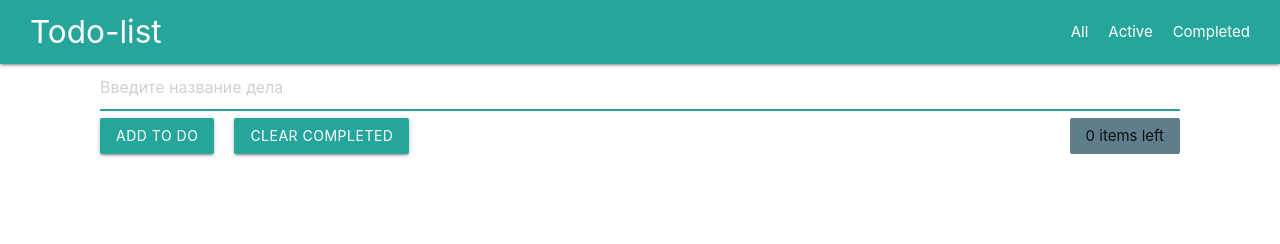
Test case: TodoListPage Component › clears completed todos
Type "Task 1" into the field with placeholder "Введите название дела" at {"x": 640, "y": 87}, box [100,64,1180,110]
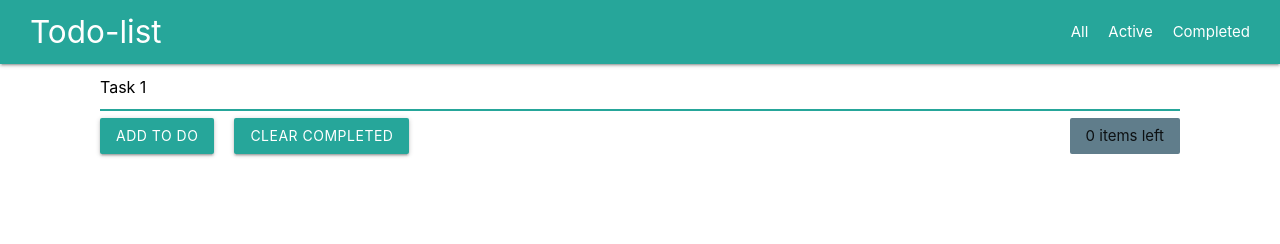
Click the button "Add To Do" at {"x": 157, "y": 136}, box [100,118,214,154]
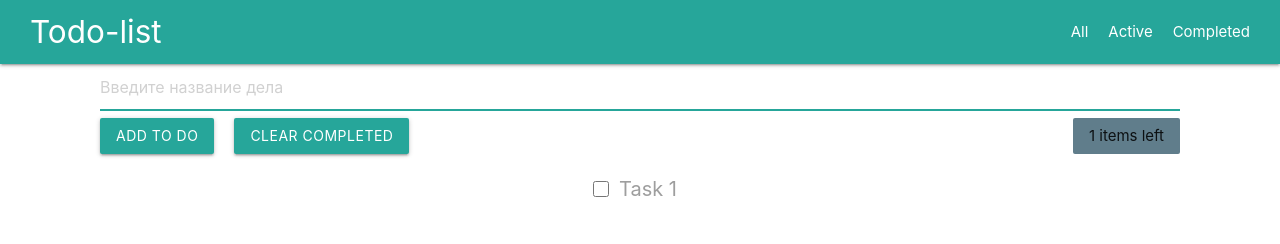
Type "Task 2" into the field with placeholder "Введите название дела" at {"x": 640, "y": 87}, box [100,64,1180,110]
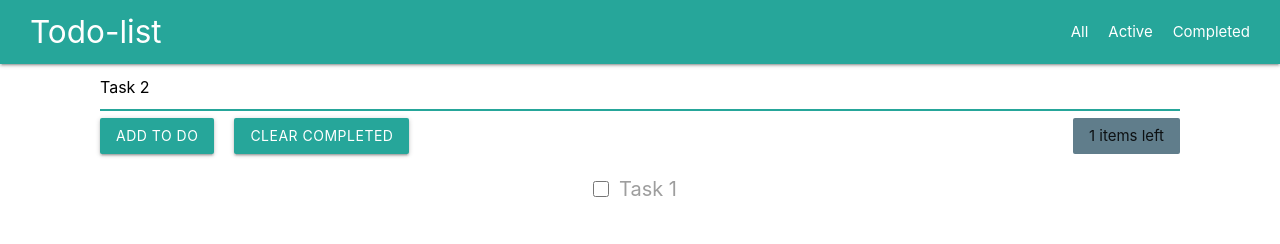
Click the button "Add To Do" at {"x": 157, "y": 136}, box [100,118,214,154]
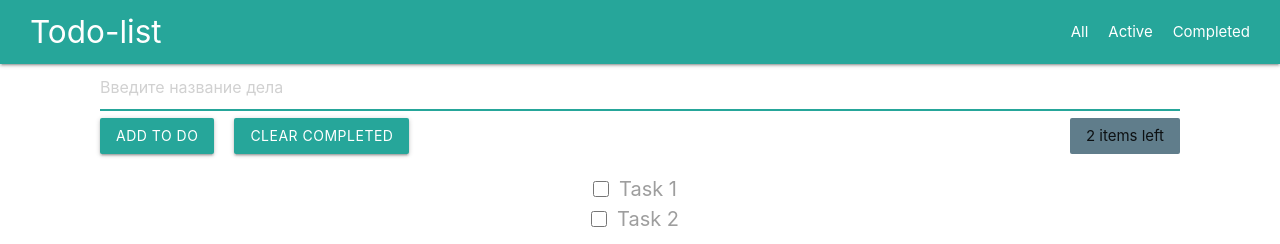
Click the text "Task 1" at {"x": 648, "y": 189}, box [619,174,677,204]
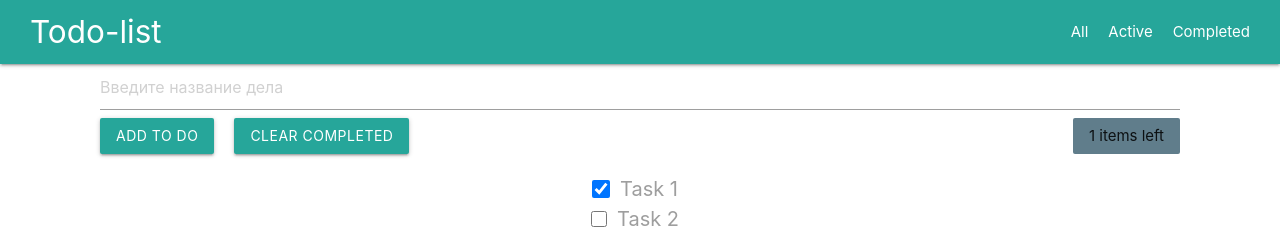
Click the button "Clear completed" at {"x": 322, "y": 136}, box [234,118,410,154]
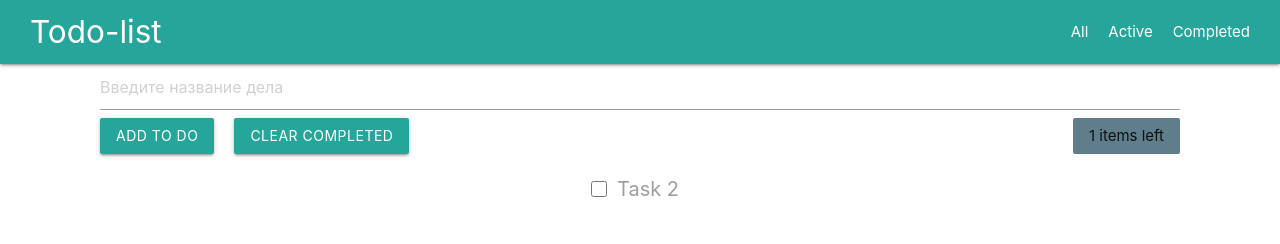
Result: the text "Task 2" is shown at [617,174,679,204]
Result: the text "Task 1" is gone
